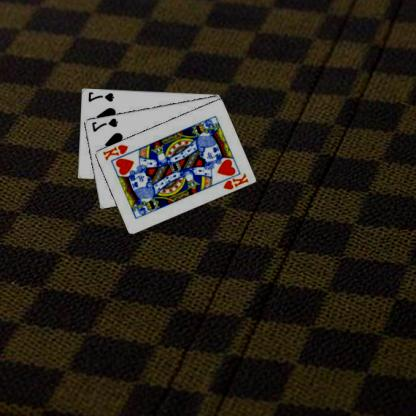7S: (91, 116, 120, 132), (87, 89, 117, 102)
KH: (222, 170, 251, 191), (102, 142, 131, 161)
